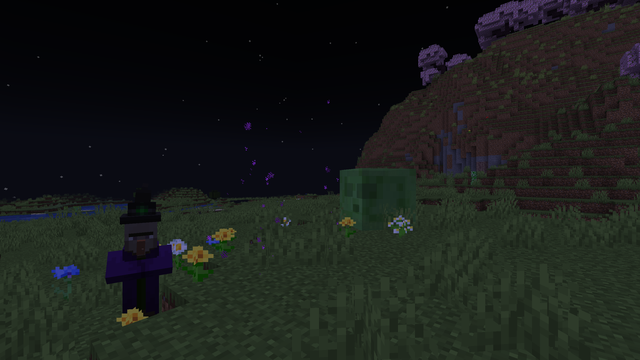creepers: (470, 170, 476, 184)
slimes: (335, 165, 413, 232)
sorcieres: (116, 213, 165, 324)
